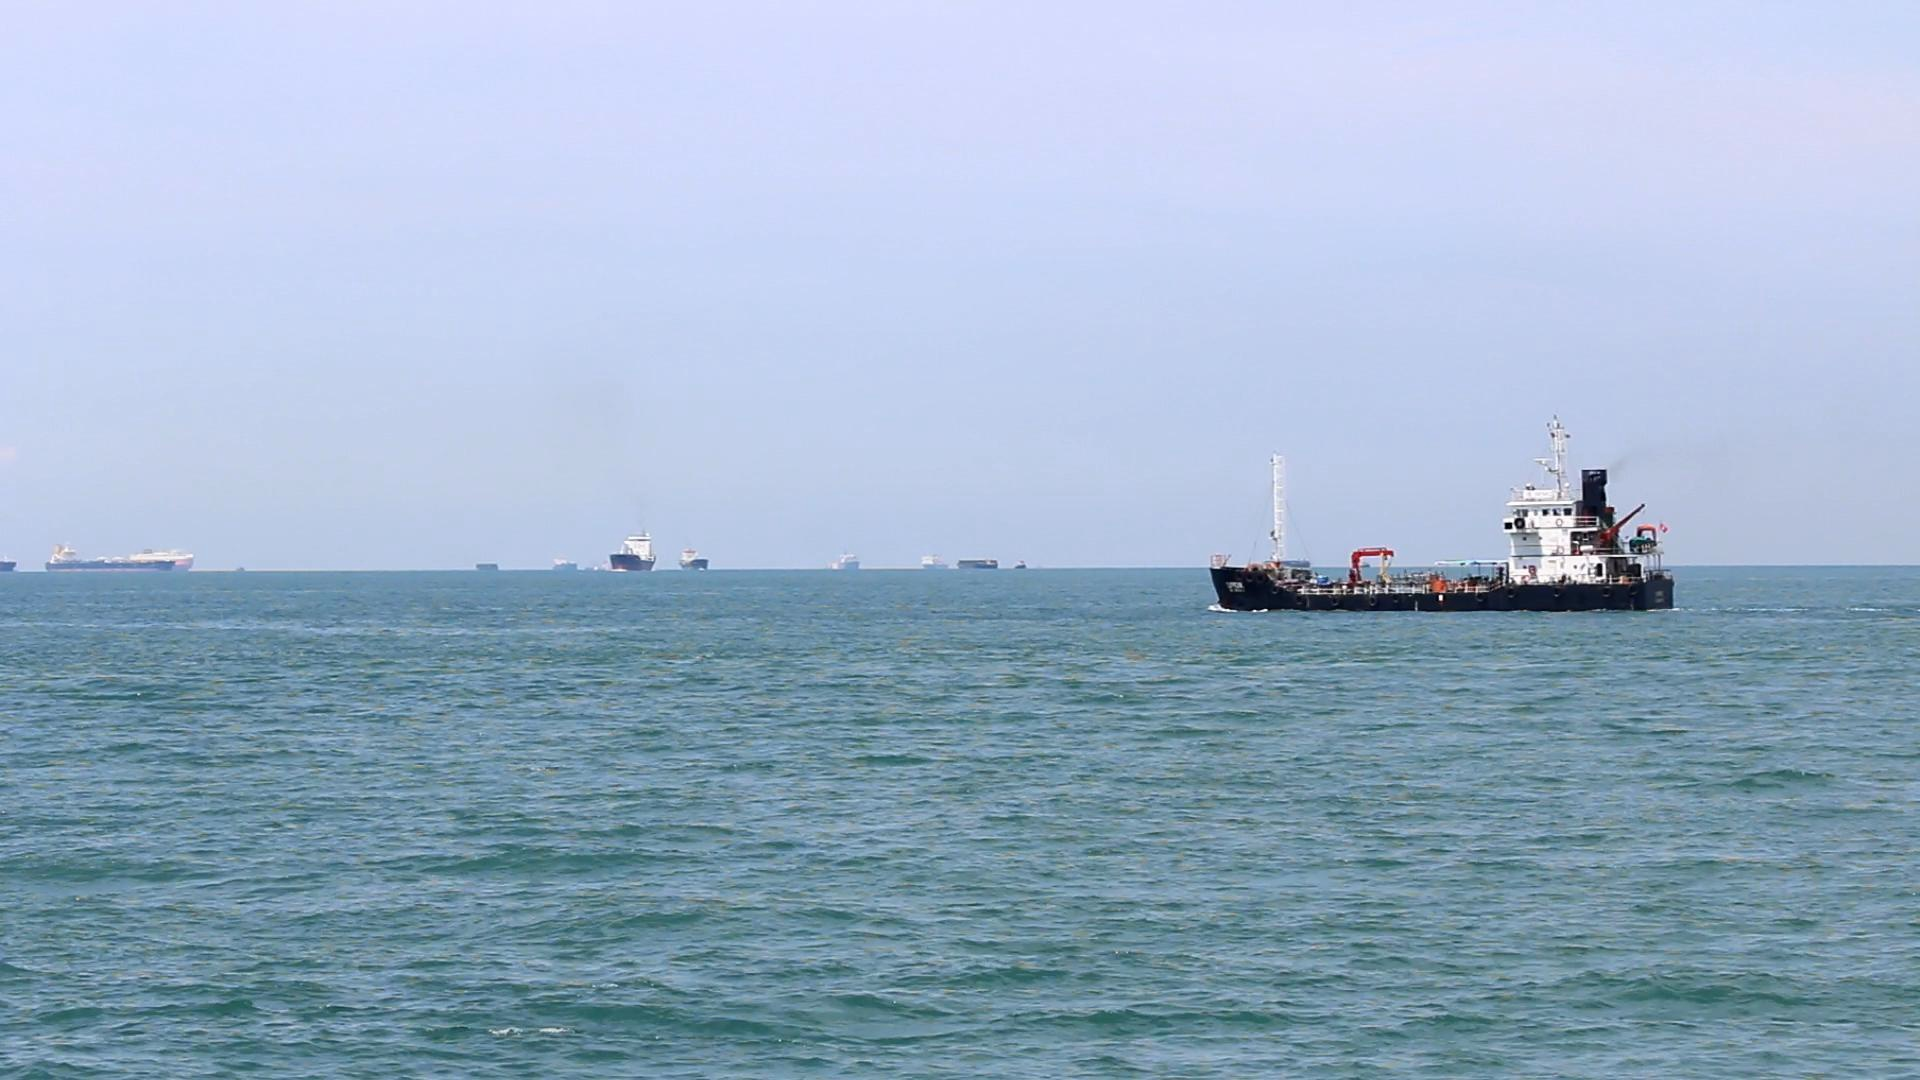Container Ship: (1211, 406, 1685, 620), (42, 538, 199, 576), (607, 521, 666, 575), (673, 542, 716, 578), (827, 550, 868, 580), (955, 550, 1001, 575), (918, 551, 949, 576), (545, 559, 587, 578), (469, 559, 509, 575), (1009, 551, 1031, 575)
